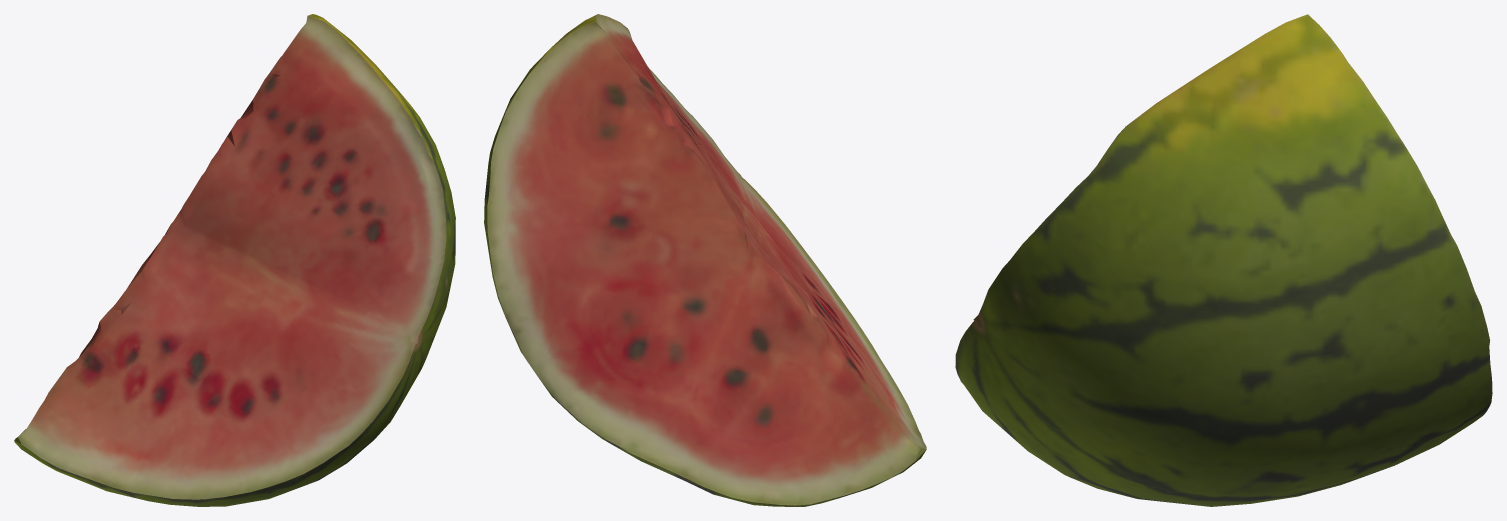
File: WatermelonSlice.obj
3 views of the same model, side by side, from view 1: azimuth 30°, elevation 25°; view 2: azimuth 150°, elevation 25°; view 3: azimuth 270°, elevation 25° (orthographic). The views are drawn at different scales.
Parts seen in each view (by area): view 1: MDCNQXCMB301_LOD2.001; view 2: MDCNQXCMB301_LOD2.001; view 3: MDCNQXCMB301_LOD2.001.
Part boxes in pixels (bbox=[...]): MDCNQXCMB301_LOD2.001: bbox=[14, 14, 455, 506]; MDCNQXCMB301_LOD2.001: bbox=[484, 14, 926, 506]; MDCNQXCMB301_LOD2.001: bbox=[955, 14, 1492, 506].
Bounding box in the file's own units: 1.3 × 1.31 × 1.14.
